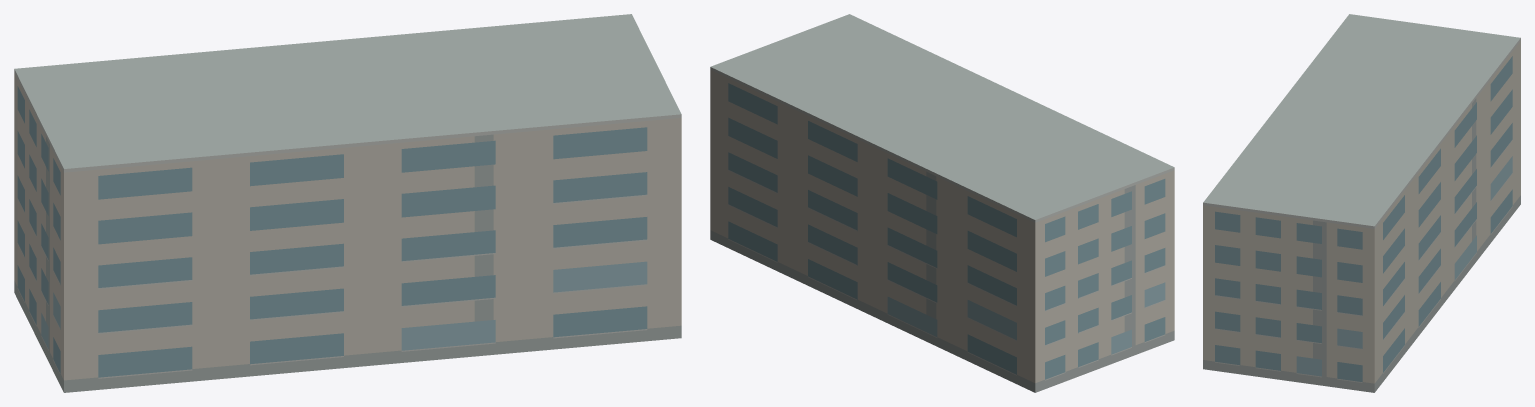
File: residential-2366be07-f85f-409b-81d2-a01111618664.glb
3 views of the same model, side by side, from view 1: azimuth 30°, elevation 25°; view 2: azimuth 150°, elevation 25°; view 3: azimuth 270°, elevation 25° (orthographic). The views are drawn at different scales.
Visible parts, largest first — view 1: residential-2366be07-f85f-409b-81d2-a01111618664.tmp; view 2: residential-2366be07-f85f-409b-81d2-a01111618664.tmp; view 3: residential-2366be07-f85f-409b-81d2-a01111618664.tmp.
Part boxes in pixels (x1,y1,x2,y2): residential-2366be07-f85f-409b-81d2-a01111618664.tmp: [14, 14, 681, 392]; residential-2366be07-f85f-409b-81d2-a01111618664.tmp: [710, 14, 1174, 392]; residential-2366be07-f85f-409b-81d2-a01111618664.tmp: [1203, 14, 1520, 392].
Bounding box in the file's own units: 41.7 × 15.25 × 26.37.
